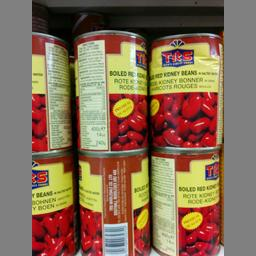beans: (71, 30, 145, 148), (150, 32, 222, 149), (151, 152, 222, 255), (76, 152, 148, 253)
